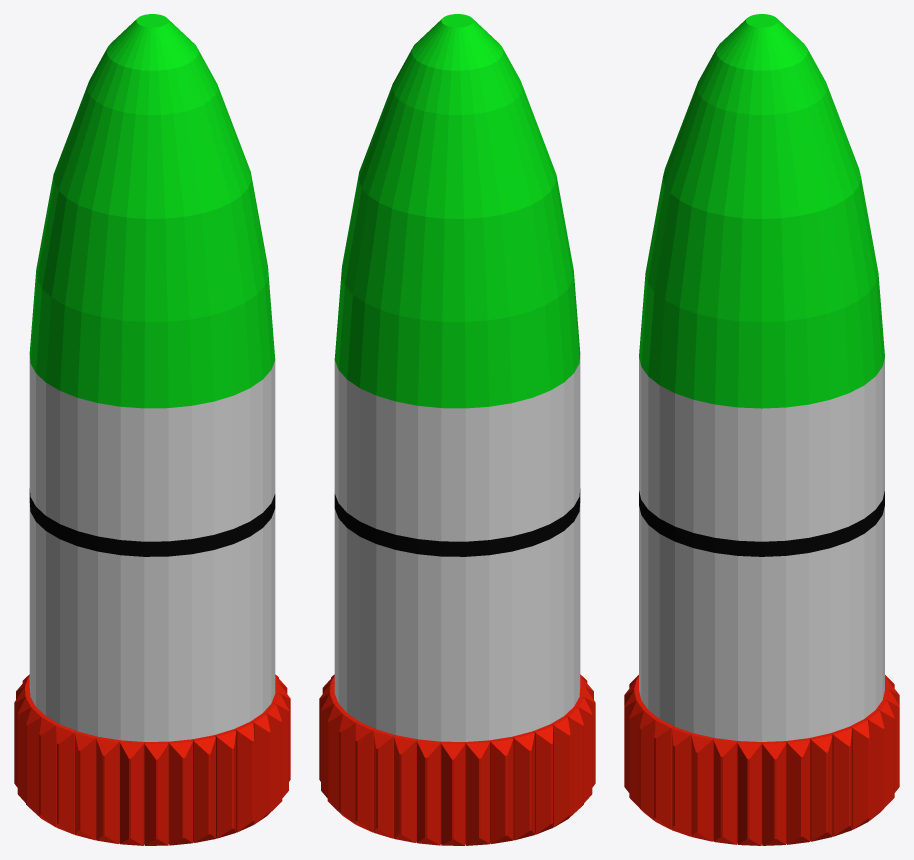
File: missile.fbx
3 renders of one model, left to right at view 1: azimuth 30°, elevation 25°; view 2: azimuth 150°, elevation 25°; view 3: azimuth 270°, elevation 25°, orthographic.
Visible parts, largest first — view 1: Cylinder; view 2: Cylinder; view 3: Cylinder.
Part boxes in pixels (box(x1,y1,x2,y2)): Cylinder: box(14, 14, 290, 845); Cylinder: box(319, 14, 595, 845); Cylinder: box(624, 14, 899, 845).
Bounding box in the file's own units: 251 × 776 × 251.
